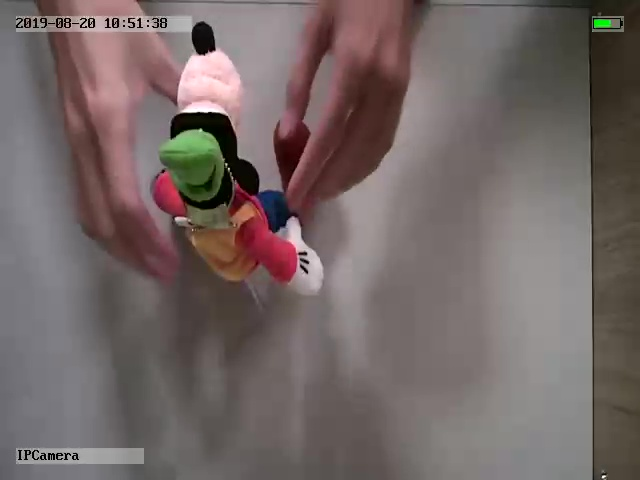goofy: (150, 21, 323, 294)
